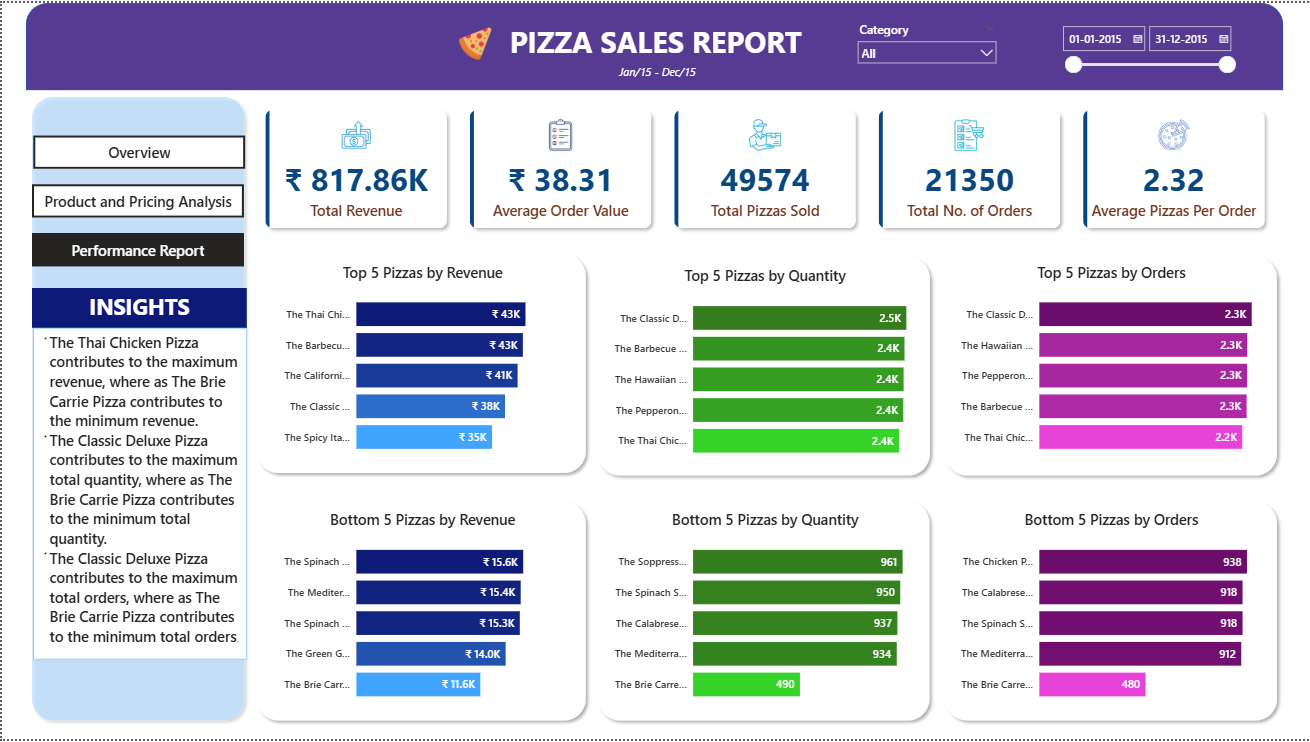

What the dashboard file says about the page in this screenshot:
{"tool":"powerbi","page":{"name":"Performance Report","canvas":[1920,1080],"ordinal":2},"visuals":[{"type":"shape","box":[34.9,0,1845.3,128.4],"z":0},{"type":"textbox","box":[656.7,22,605.3,73.4],"z":1000},{"type":"textbox","box":[882.3,84.4,159.6,33],"z":2000},{"type":"image","box":[669.5,34.9,49.5,49.5],"z":3000},{"type":"shape","box":[365,359.5,500.7,339.3],"z":4000},{"type":"shape","box":[34.9,128.4,330.2,933.6],"z":5000},{"type":"textbox","box":[44,418.2,315.5,58.7],"z":6000},{"type":"textbox","box":[45.9,476.9,313.7,486.1],"z":7000},{"type":"cardVisual","fields":{"Data":["pizza_sales.Total Revenue","pizza_sales.Average Order Value","pizza_sales.Total Pizzas Sold","pizza_sales.Total No. of Orders","pizza_sales.Average Pizzas Per Order"]},"box":[357.7,128.4,1527.9,231.1],"z":8000},{"type":"shape","box":[865.8,363.2,505,339.3],"z":9000},{"type":"shape","box":[1375.7,363.2,504.4,339.3],"z":10000},{"type":"shape","box":[365,722.7,500.7,339.3],"z":11000},{"type":"shape","box":[865.8,722.7,504.4,339.3],"z":12000},{"type":"shape","box":[1375.7,722.7,504.4,339.3],"z":13000},{"type":"barChart","title":"Top 5 Pizzas by Revenue","fields":{"Category":["pizza_sales.pizza_name"],"Y":["pizza_sales.Total Revenue"]},"box":[396.2,379.7,442.1,299],"z":14000},{"type":"barChart","title":"Bottom 5 Pizzas by Revenue","fields":{"Category":["pizza_sales.pizza_name"],"Y":["pizza_sales.Total Revenue"]},"box":[396.2,742.9,442.1,299],"z":15000},{"type":"barChart","title":"Top 5 Pizzas by Quantity","fields":{"Category":["pizza_sales.pizza_name"],"Y":["pizza_sales.Total Pizzas Sold"]},"box":[882.3,385.2,475.1,299],"z":16000},{"type":"barChart","title":"Bottom 5 Pizzas by Quantity","fields":{"Category":["pizza_sales.pizza_name"],"Y":["pizza_sales.Total Pizzas Sold"]},"box":[882.3,742.9,475.1,299],"z":17000},{"type":"barChart","title":"Top 5 Pizzas by Orders","fields":{"Category":["pizza_sales.pizza_name"],"Y":["pizza_sales.Total No. of Orders"]},"box":[1390.4,379.7,475.1,299],"z":18000},{"type":"barChart","title":"Bottom 5 Pizzas by Orders","fields":{"Category":["pizza_sales.pizza_name"],"Y":["pizza_sales.Total No. of Orders"]},"box":[1390.4,742.9,475.1,299],"z":19000},{"type":"slicer","fields":{"Values":["pizza_sales.pizza_category"]},"box":[1245.5,22,223.8,78.9],"z":20000},{"type":"slicer","fields":{"Values":["pizza_sales.order_date"]},"box":[1544.4,23.8,275.1,93.5],"z":21000},{"type":"pageNavigator","box":[45.9,194.4,311.8,49.5],"z":21001},{"type":"pageNavigator","box":[44,266,311.8,49.5],"z":21002},{"type":"pageNavigator","box":[44,337.5,311.8,49.5],"z":21003}]}

Visuals, with their boxes in screenshot pixels (x1, y1, x2, y2), scaled from the page's 1920x1080 canvas onto the 1310x742 screenshot:
shape: [left=24, top=0, right=1283, bottom=88]
textbox: [left=448, top=15, right=861, bottom=66]
textbox: [left=602, top=58, right=711, bottom=81]
image: [left=457, top=24, right=491, bottom=58]
shape: [left=249, top=247, right=591, bottom=480]
shape: [left=24, top=88, right=249, bottom=730]
textbox: [left=30, top=287, right=245, bottom=328]
textbox: [left=31, top=328, right=245, bottom=662]
cardVisual - pizza_sales.Total Revenue x pizza_sales.Average Order Value: [left=244, top=88, right=1287, bottom=247]
shape: [left=591, top=250, right=935, bottom=483]
shape: [left=939, top=250, right=1283, bottom=483]
shape: [left=249, top=497, right=591, bottom=730]
shape: [left=591, top=497, right=935, bottom=730]
shape: [left=939, top=497, right=1283, bottom=730]
"Top 5 Pizzas by Revenue" barChart: [left=270, top=261, right=572, bottom=466]
"Bottom 5 Pizzas by Revenue" barChart: [left=270, top=510, right=572, bottom=716]
"Top 5 Pizzas by Quantity" barChart: [left=602, top=265, right=926, bottom=470]
"Bottom 5 Pizzas by Quantity" barChart: [left=602, top=510, right=926, bottom=716]
"Top 5 Pizzas by Orders" barChart: [left=949, top=261, right=1273, bottom=466]
"Bottom 5 Pizzas by Orders" barChart: [left=949, top=510, right=1273, bottom=716]
slicer - pizza_sales.pizza_category: [left=850, top=15, right=1002, bottom=69]
slicer - pizza_sales.order_date: [left=1054, top=16, right=1241, bottom=81]
pageNavigator: [left=31, top=134, right=244, bottom=168]
pageNavigator: [left=30, top=183, right=243, bottom=217]
pageNavigator: [left=30, top=232, right=243, bottom=266]
